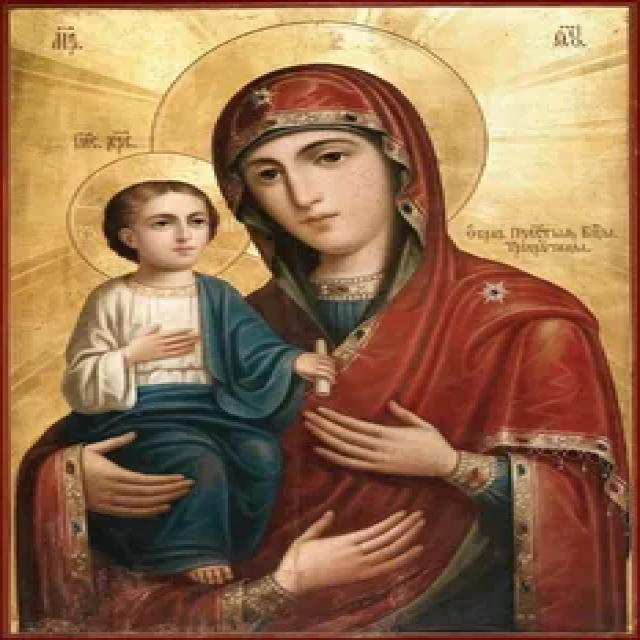mother of god: (13, 60, 640, 638)
